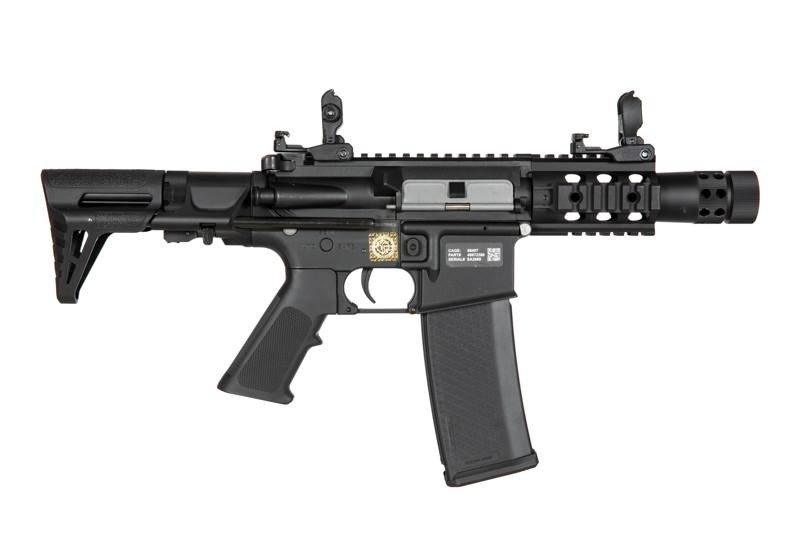m4_carbine: (216, 148, 539, 496)
